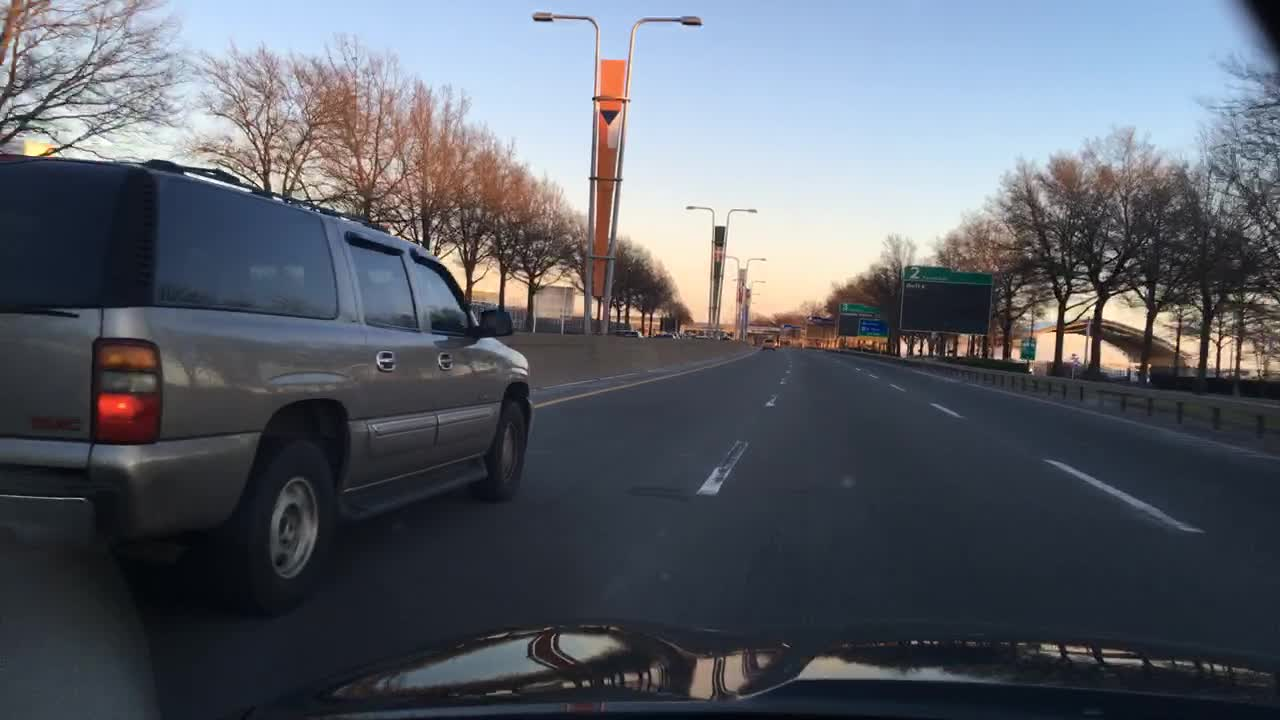car: (0, 153, 531, 600), (608, 329, 641, 339), (757, 335, 777, 350), (648, 330, 677, 338), (686, 331, 711, 339), (715, 331, 732, 341)
traffic sign: (900, 286, 989, 336), (904, 262, 993, 285), (858, 316, 885, 339), (834, 314, 857, 339), (835, 298, 879, 311), (1018, 336, 1036, 361), (807, 311, 834, 326), (781, 324, 799, 330)
